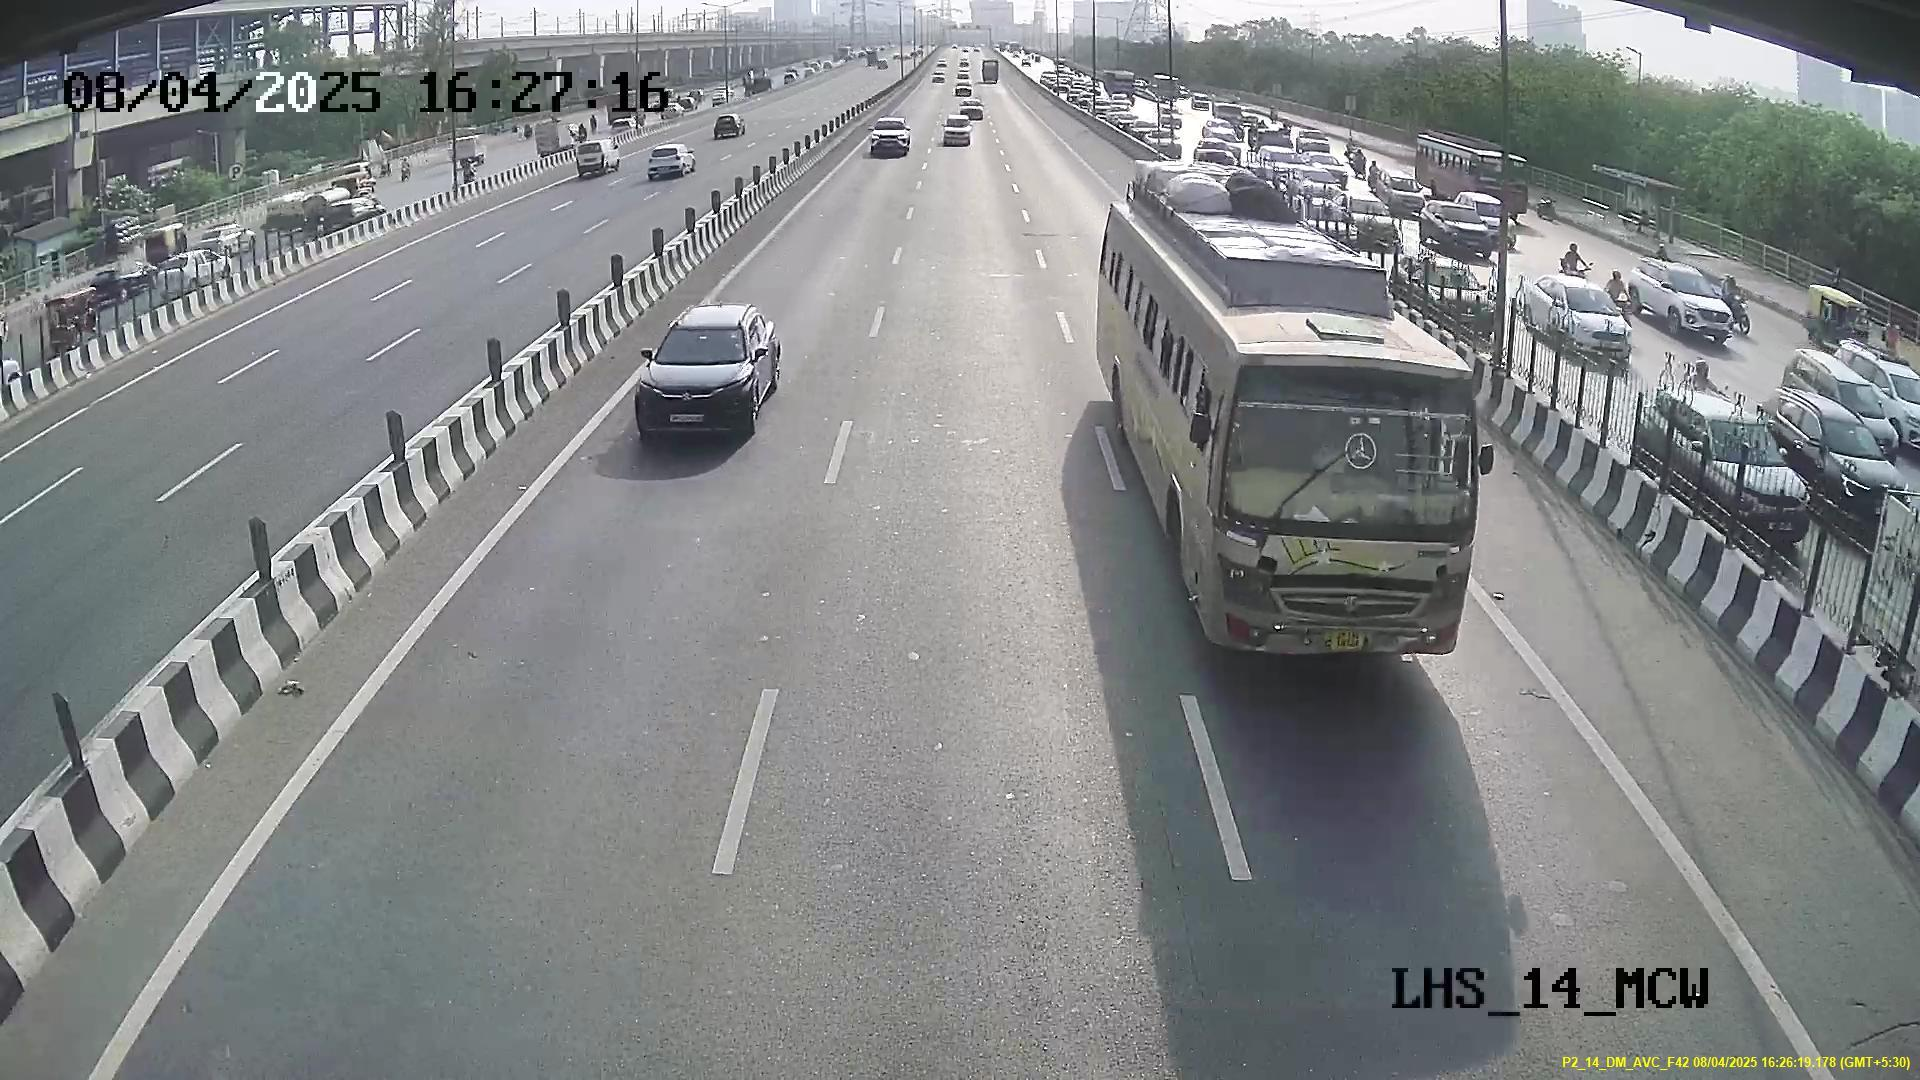bus: (1178, 311, 1494, 675)
car: (628, 311, 769, 439)
